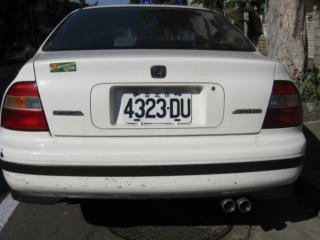plate: (121, 89, 194, 125)
